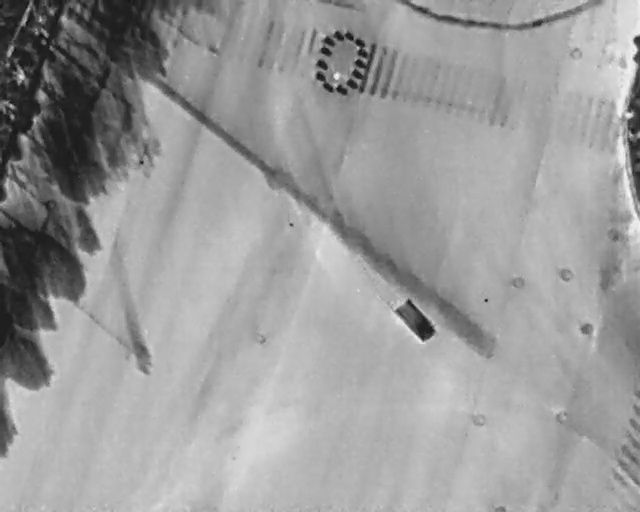Car: (393, 298, 439, 344)
